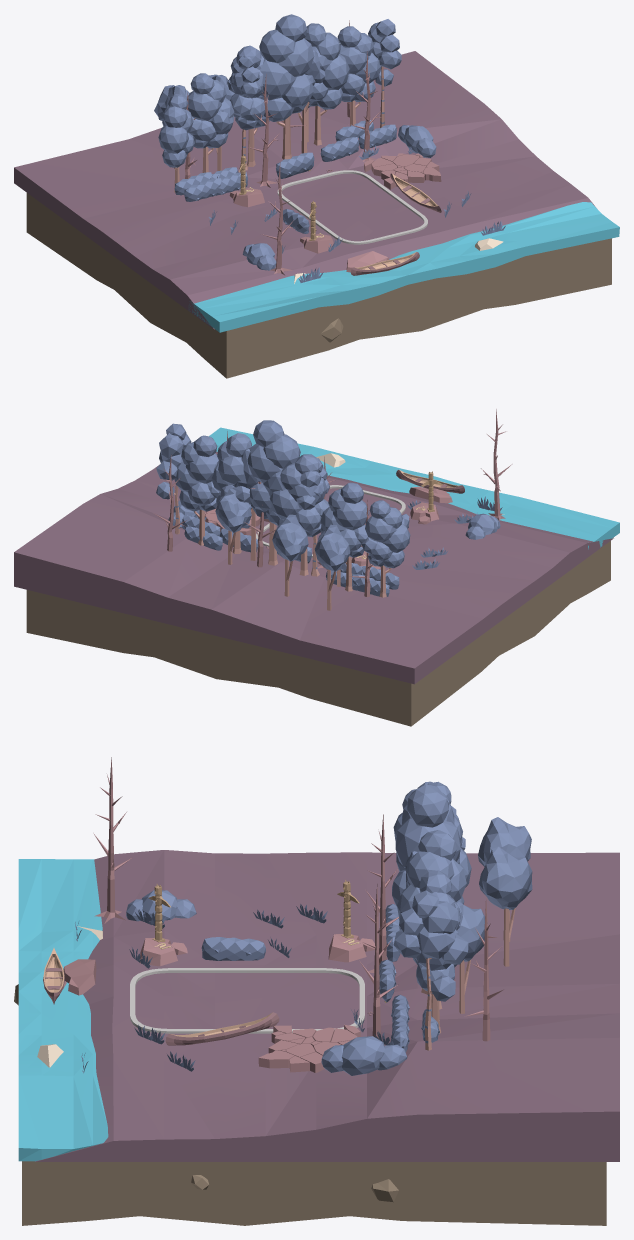
The model's file is Lvl_5.fbx.
3 views of the same model, one above another, from view 1: azimuth 30°, elevation 25°; view 2: azimuth 150°, elevation 25°; view 3: azimuth 270°, elevation 25° (orthographic). The views are drawn at different scales.
Parts seen in each view (by area): view 1: world_field__1_.001, tree_oak__2_.002, tree_oak__5_.001, tree_oak__1_.001, tree_oak.001, tree_oak__3_.001, tree_oak__4_.001, ground_cracked__1_.005, tree_birch_tall.001, Cube.005, tree_birch_tall__1_.001, fence_vineyard__6_.001 (+11 smaller); view 2: world_field__1_.001, tree_oak__2_.002, tree_oak.001, tree_oak__4_.001, tree_oak__3_.001, tree_oak__1_.001, tree_oak__5_.001, tree_birch_tall.001, tree_tall__3_.001, tree_tall__1_.001, tree_tall.003, tree_birch_tall__1_.001 (+6 smaller); view 3: world_field__1_.001, tree_birch_tall.001, tree_oak__2_.002, ground_cracked__1_.005, tree_tall__1_.001, tree_oak__5_.001, Cube.005, tree_oak.001, tree_tall__3_.001, tree_tall.003, fence_vineyard.002, shrub_round__3_.005 (+10 smaller).
Boxes of the visible parts, <box> form: world_field__1_.001: <box>14,51,619,378</box>; tree_oak__2_.002: <box>259,14,315,159</box>; tree_oak__5_.001: <box>304,23,349,145</box>; tree_oak__1_.001: <box>187,73,234,172</box>; tree_oak.001: <box>337,26,381,125</box>; tree_oak__3_.001: <box>158,94,194,192</box>; tree_oak__4_.001: <box>230,45,269,166</box>; ground_cracked__1_.005: <box>364,153,441,189</box>; tree_birch_tall.001: <box>368,19,401,127</box>; Cube.005: <box>277,170,427,244</box>; tree_birch_tall__1_.001: <box>227,54,261,170</box>; fence_vineyard__6_.001: <box>276,152,314,178</box>; world_field__1_.001: <box>14,427,619,726</box>; tree_oak__2_.002: <box>247,420,300,565</box>; tree_oak.001: <box>174,435,220,545</box>; tree_oak__4_.001: <box>269,454,329,575</box>; tree_oak__3_.001: <box>361,500,410,597</box>; tree_oak__1_.001: <box>320,482,369,591</box>; tree_oak__5_.001: <box>211,433,251,553</box>; tree_birch_tall.001: <box>156,423,191,534</box>; tree_tall__3_.001: <box>314,524,350,610</box>; tree_tall__1_.001: <box>272,514,308,596</box>; tree_tall.003: <box>215,488,251,564</box>; tree_birch_tall__1_.001: <box>296,458,329,576</box>; world_field__1_.001: <box>14,850,619,1225</box>; tree_birch_tall.001: <box>393,890,468,1050</box>; tree_oak__2_.002: <box>392,784,460,994</box>; ground_cracked__1_.005: <box>258,1024,360,1072</box>; tree_tall__1_.001: <box>479,846,532,966</box>; tree_oak__5_.001: <box>397,830,466,1009</box>; Cube.005: <box>130,968,364,1033</box>; tree_oak.001: <box>413,870,460,1033</box>; tree_tall__3_.001: <box>478,817,531,941</box>; tree_tall.003: <box>457,901,487,1013</box>; fence_vineyard.002: <box>201,937,265,960</box>; shrub_round__3_.005: <box>342,1036,384,1075</box>.
Size of the model in its own units: 9851 by 4958 by 8817.
